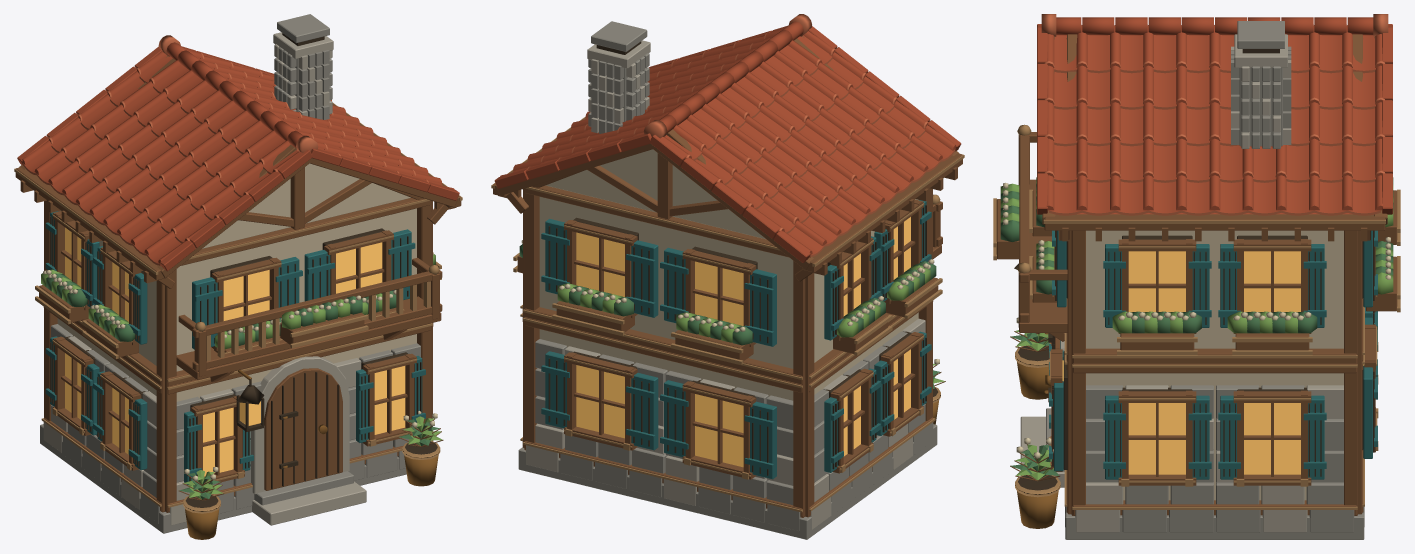
3 renders of one model, left to right at view 1: azimuth 30°, elevation 25°; view 2: azimuth 150°, elevation 25°; view 3: azimuth 270°, elevation 25°, orthographic. The views are drawn at different scales.
Parts seen in each view (by area): view 1: alpine_villa_2_geometry; view 2: alpine_villa_2_geometry; view 3: alpine_villa_2_geometry.
Part boxes in pixels (x1,y1,x2,y2): alpine_villa_2_geometry: (14, 14, 462, 539); alpine_villa_2_geometry: (491, 14, 964, 539); alpine_villa_2_geometry: (993, 14, 1400, 539).
Bounding box in the file's own units: 0.99 × 1.15 × 0.886.
